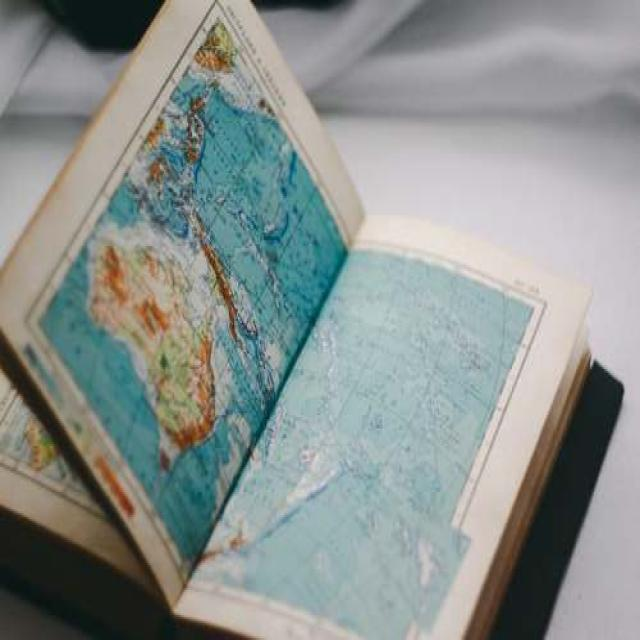notebook: (14, 7, 572, 640)
